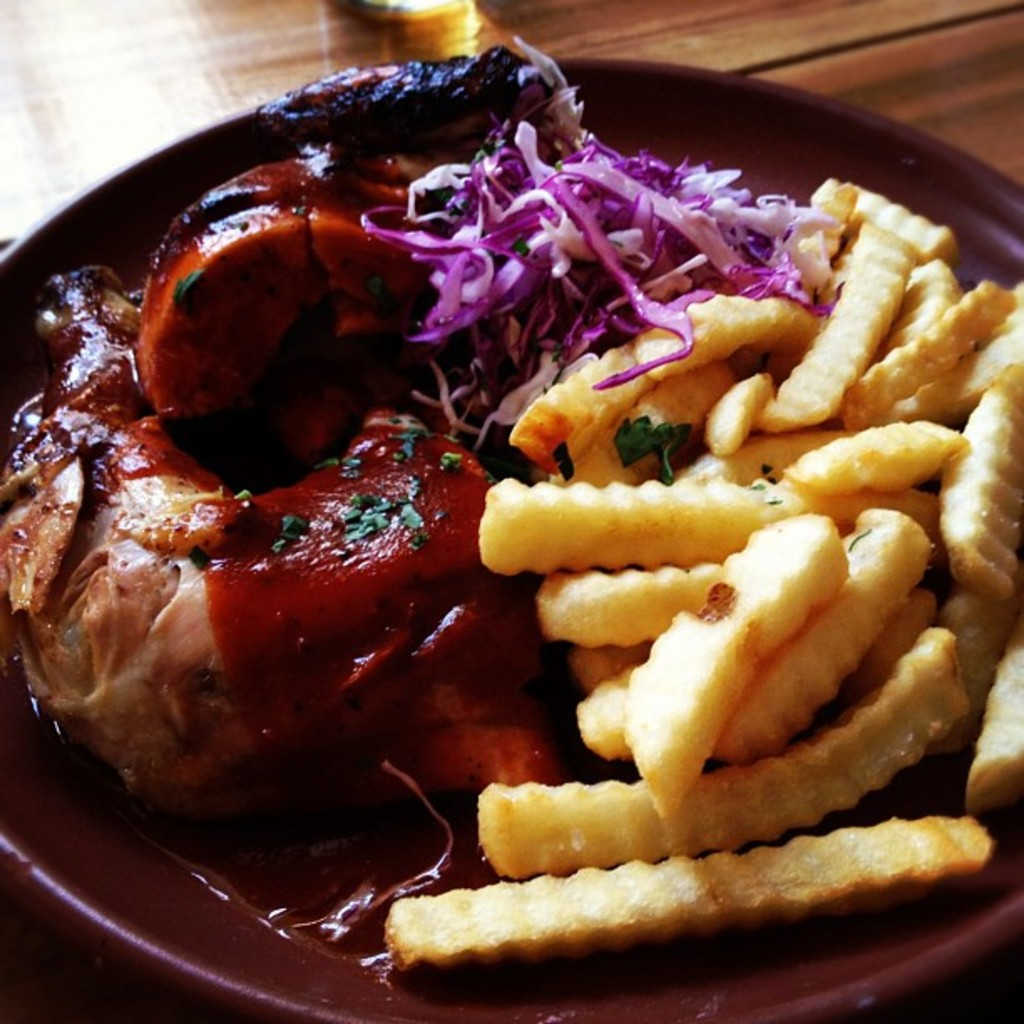French fries: (373, 158, 1022, 1022)
